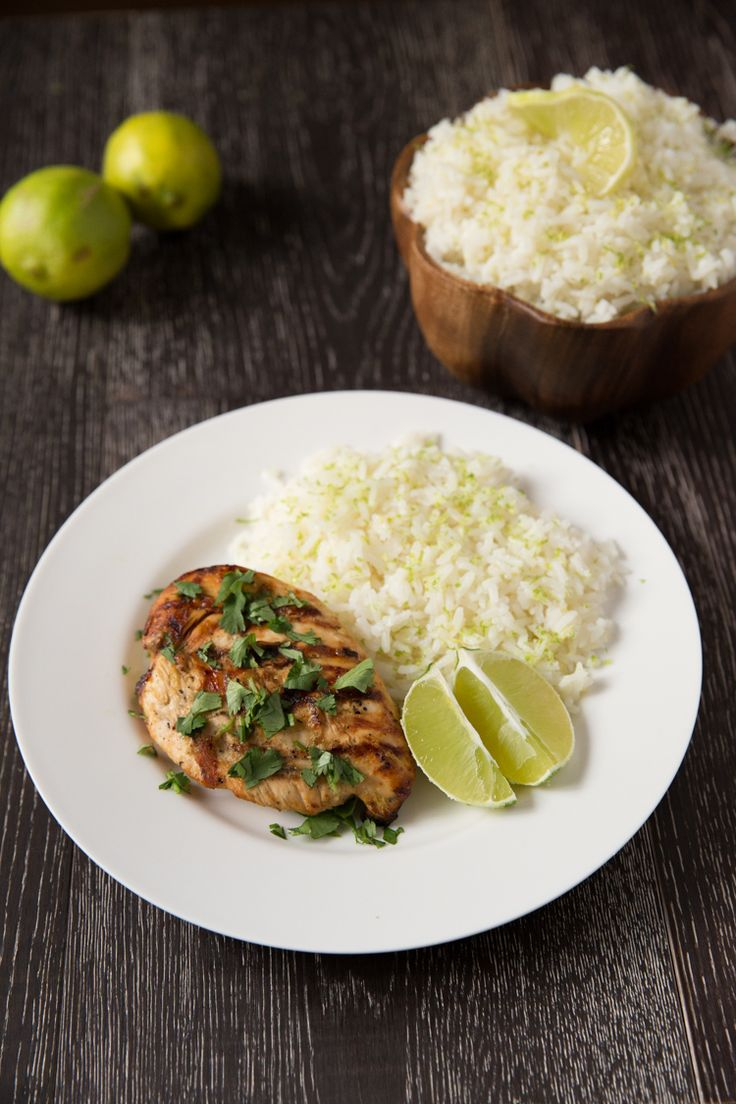plain rice: (431, 78, 736, 313), (265, 453, 584, 648)
